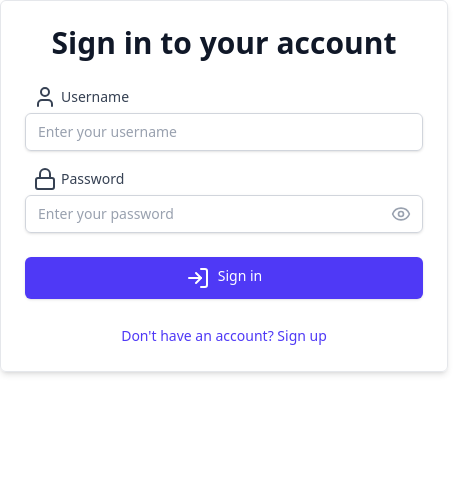
Test: LoginForm › API Integration › handles login failure with invalid credentials
Type "testuser" into the field labelled "Username" at x=224, y=132, box [25,113,423,151]
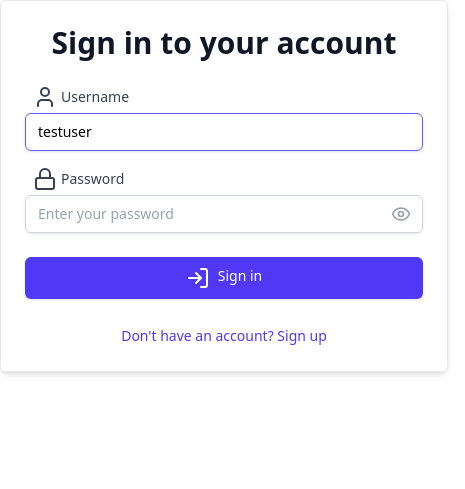
Type "password123" into the password field labelled "Password" at x=224, y=214, box [25,195,423,233]
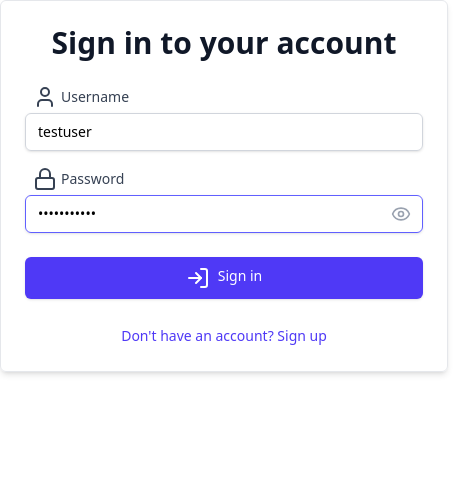
Click the button "Sign in" at x=224, y=278, box [25,257,423,299]
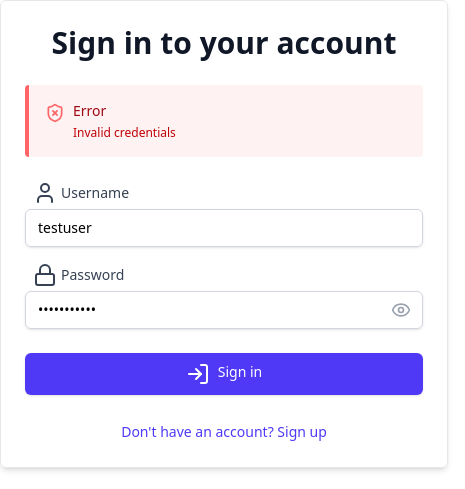
Now the text "Invalid credentials" is shown, box [73,125,176,141]
